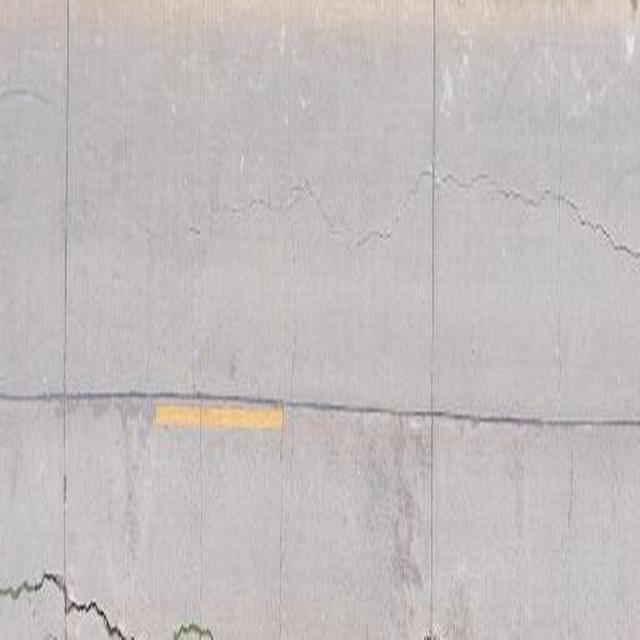minor crack: (176, 20, 231, 624), (223, 163, 466, 251), (276, 4, 309, 612), (552, 1, 584, 608), (426, 172, 632, 266), (2, 570, 158, 638), (278, 177, 321, 216), (609, 237, 640, 260), (18, 576, 46, 593)
moderate crack: (11, 387, 635, 430), (344, 419, 465, 640), (58, 9, 75, 616), (423, 12, 438, 627), (120, 440, 144, 572), (2, 86, 58, 114), (392, 544, 424, 592), (355, 225, 395, 248), (620, 5, 636, 60), (172, 621, 212, 639), (439, 62, 455, 106), (420, 621, 452, 639), (104, 618, 126, 638), (186, 225, 200, 236), (44, 634, 59, 640)
severe crack: (101, 399, 157, 445), (8, 387, 135, 404), (408, 164, 445, 204), (288, 342, 296, 434), (67, 598, 98, 616), (191, 386, 200, 399)
